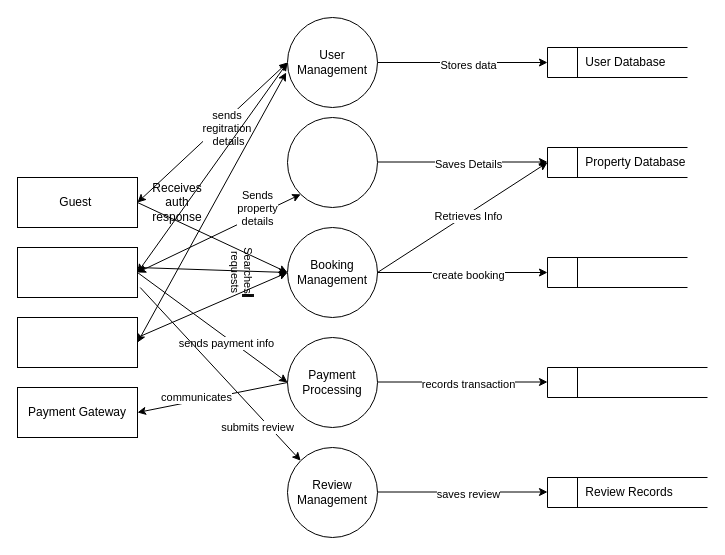
The diagram is 725 pixels wide and 555 high, and some of its shapes have lost their labels. The centre of each missing label's shape, as x and y in pixels:
"Admin" goes at pixel 77 342.
"Booking Database" goes at pixel 617 272.
"Host" goes at pixel 77 272.
"Payment Records" goes at pixel 627 382.
"Property Management" goes at pixel 332 162.
